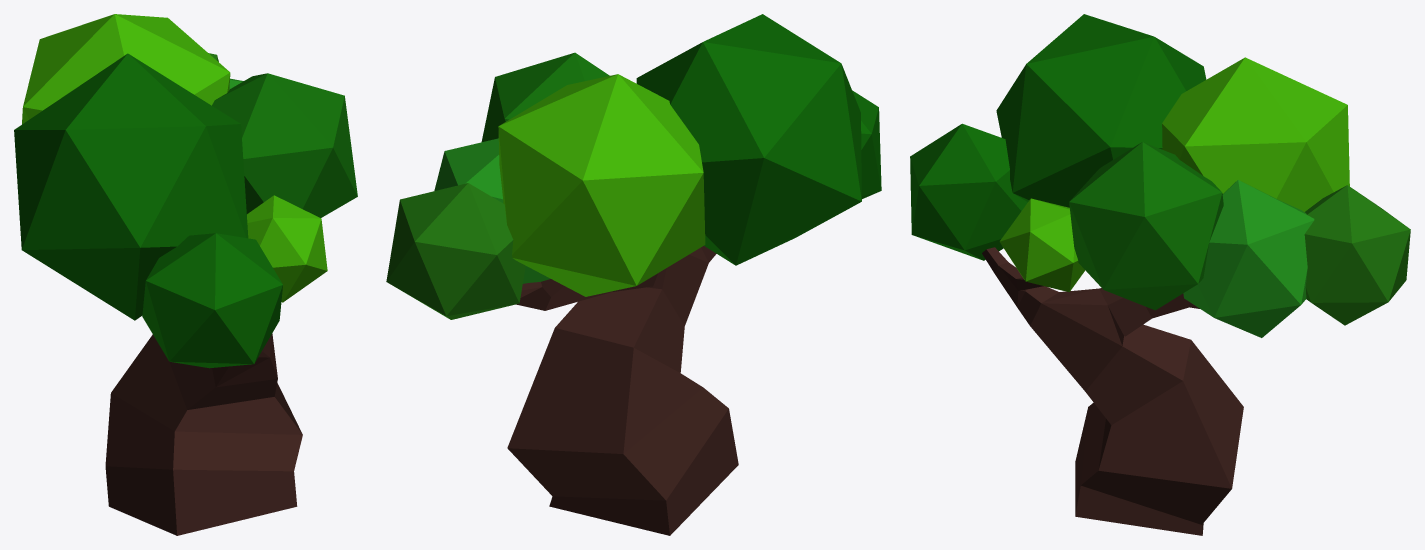
File: Low poly tree 5.glb
3 views of the same model, side by side, from view 1: azimuth 30°, elevation 25°; view 2: azimuth 150°, elevation 25°; view 3: azimuth 270°, elevation 25° (orthographic). The views are drawn at different scales.
Visible parts, largest first — view 1: Icosphere.019, Cube.002, Icosphere.021, Icosphere.020, Icosphere.017, Icosphere.022; view 2: Cube.002, Icosphere.017, Icosphere.019, Icosphere.016, Icosphere.020, Icosphere.018, Icosphere.021; view 3: Cube.002, Icosphere.019, Icosphere.017, Icosphere.020, Icosphere.018, Icosphere.021, Icosphere.016, Icosphere.022.
Boxes of the visible parts, x1,y1,x2,y2 form: Icosphere.019: (14,53,248,320); Cube.002: (105,333,302,535); Icosphere.021: (142,233,282,368); Icosphere.020: (212,73,357,217); Icosphere.017: (22,14,230,124); Icosphere.022: (247,195,327,302); Cube.002: (507,246,738,535); Icosphere.017: (498,74,705,296); Icosphere.019: (636,14,861,265); Icosphere.016: (386,183,525,319); Icosphere.020: (481,52,609,141); Icosphere.018: (434,138,550,283); Icosphere.021: (852,90,881,198); Cube.002: (982,247,1243,535); Icosphere.019: (996,14,1206,207); Icosphere.017: (1162,57,1349,211); Icosphere.020: (1069,142,1223,310); Icosphere.018: (1183,180,1314,337); Icosphere.021: (910,123,1027,260); Icosphere.016: (1304,185,1410,325); Icosphere.022: (999,198,1085,292).
Bounding box in the file's own units: 7.23 × 9.52 × 9.79.
